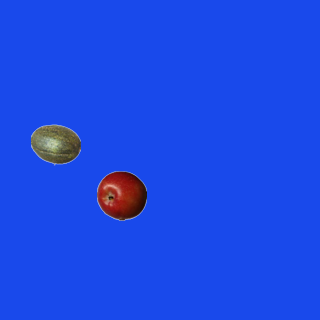Apple Braeburn: (96, 170, 146, 220)
Melon Piel de Sapo: (30, 119, 80, 169)
